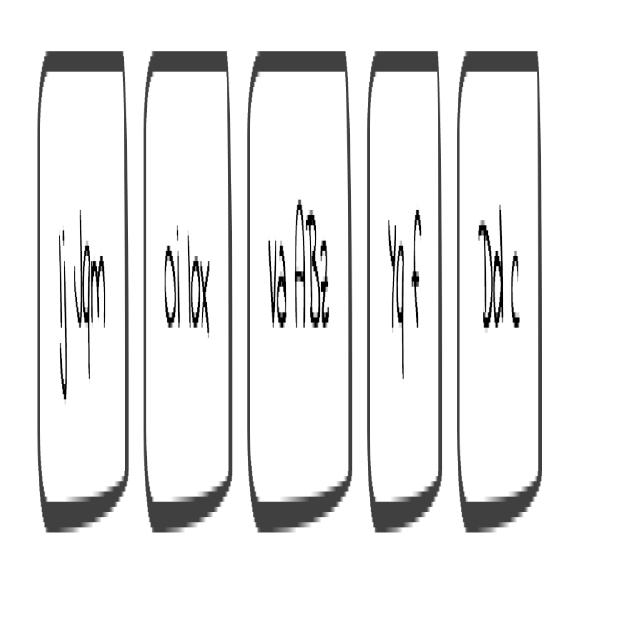Navigation Bar: (35, 27, 588, 585)
